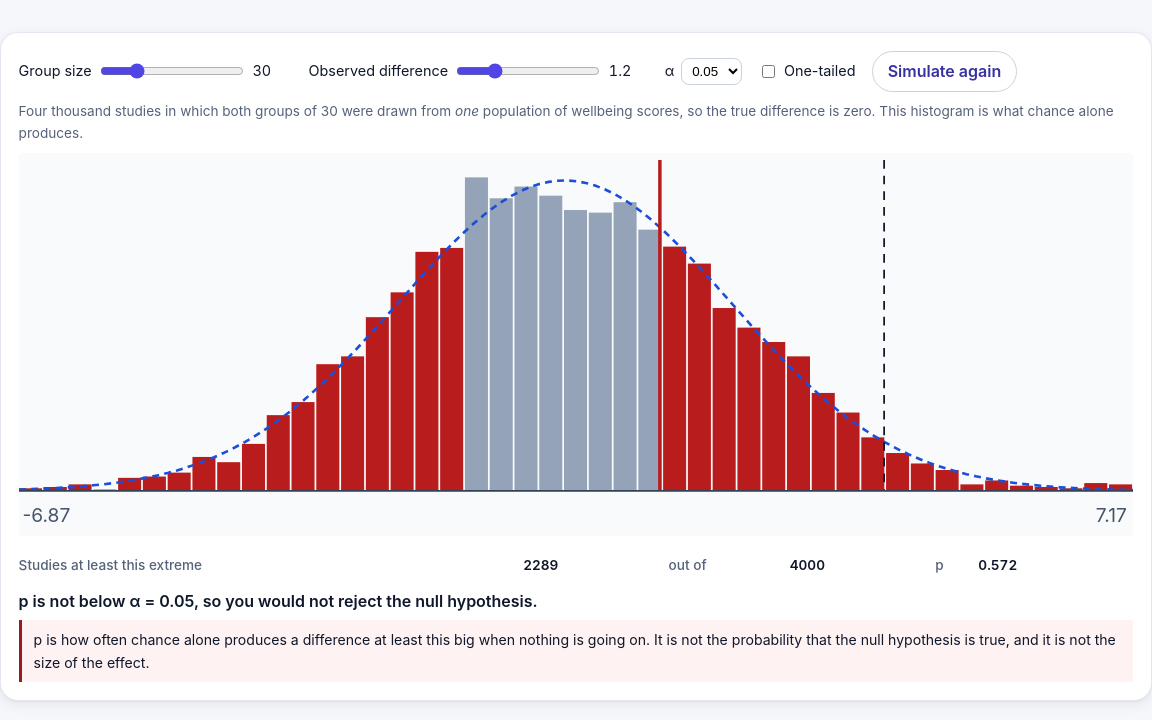
Test case: PValue › with no extreme shuffles p is shown as a bound, never zero
The image size is (1152, 720).
Set the slider labelled "Group size 30" to "100". click: point(236, 71)
box: [100,63,244,79]
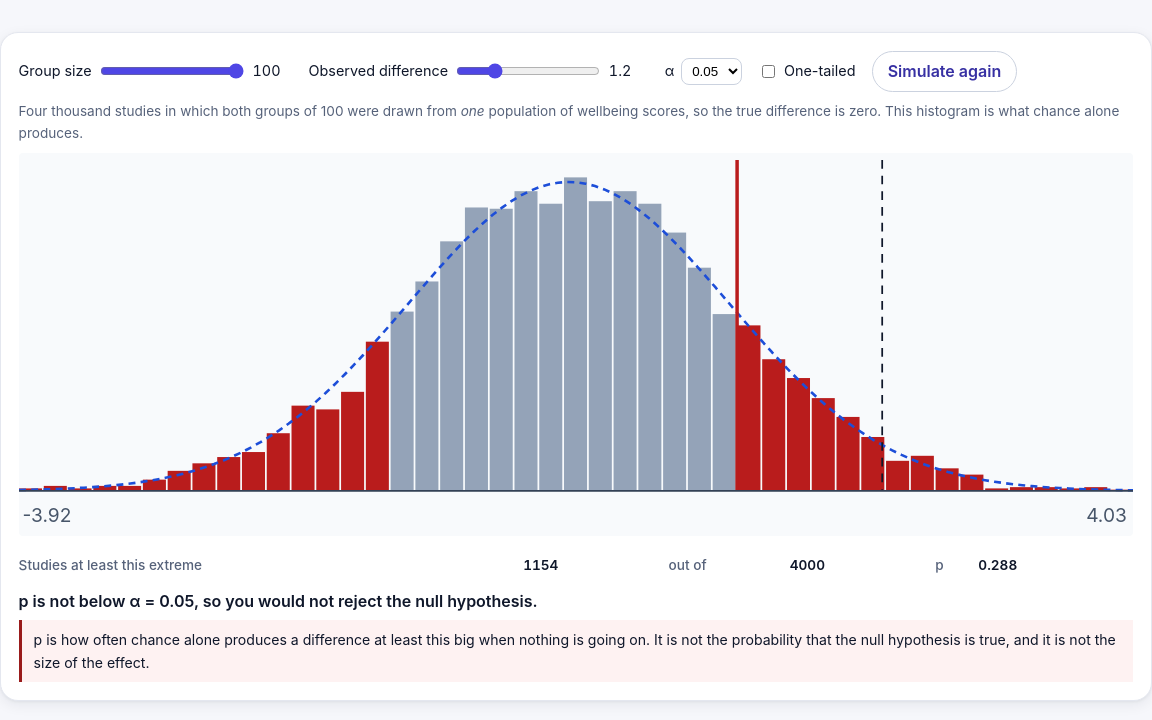
Set the slider labelled "Observed difference 1.2" to "5". click: point(592, 71)
box: [456,63,600,79]
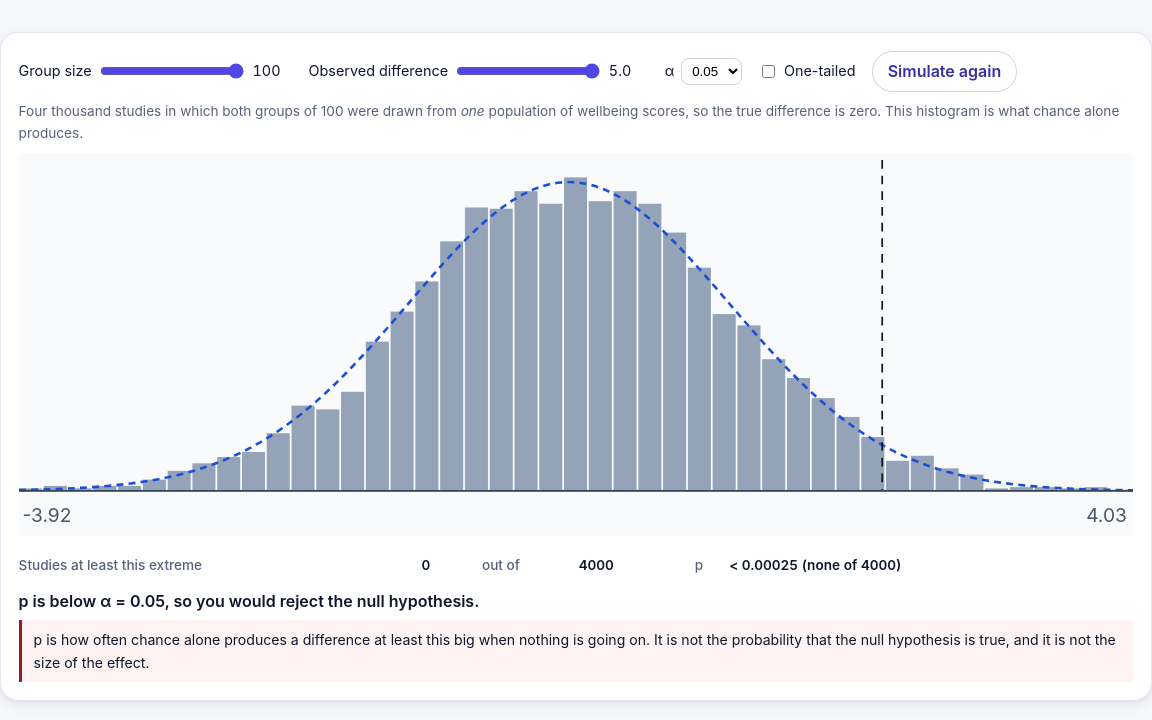
Expected: the cell with test id "extreme-count" reads "0", [421,557,430,573]
Expected: the cell with test id "p-value" reads "< 0.00025 (none of 4000)", [729,557,901,573]
